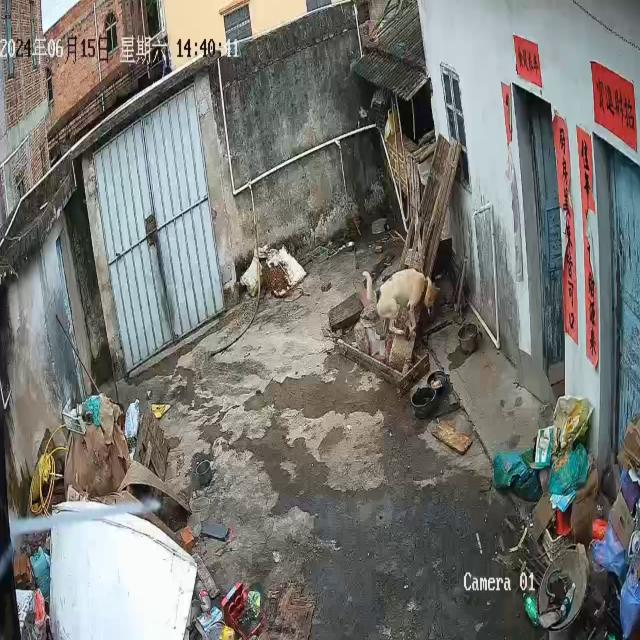dog: (363, 267, 441, 339)
